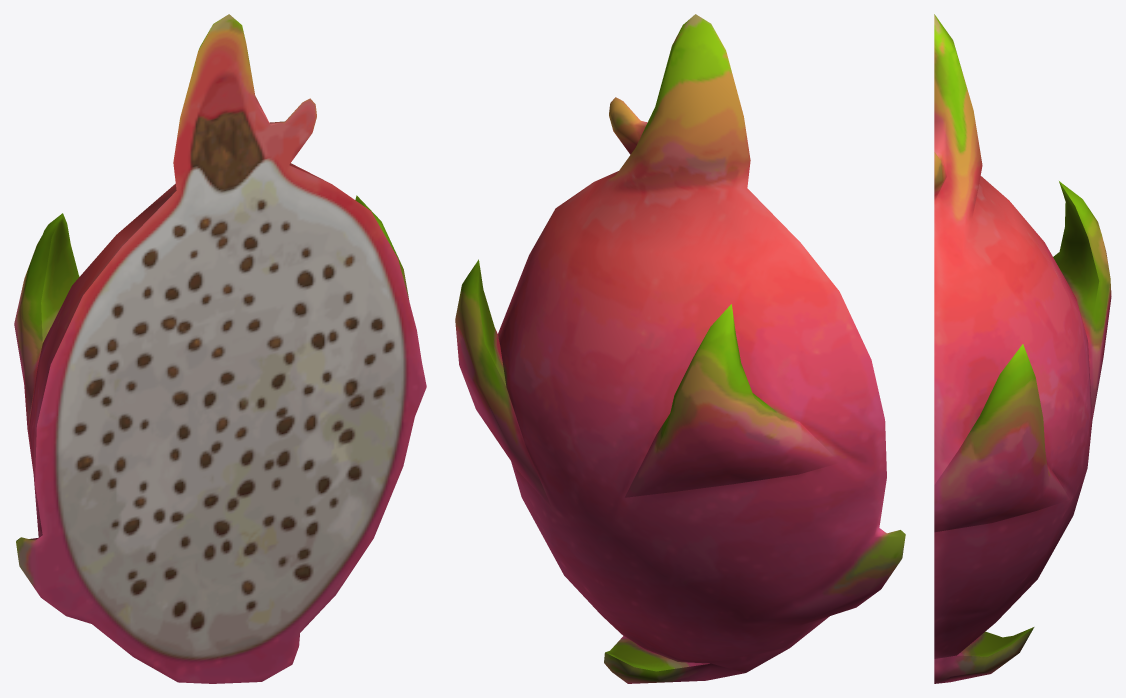
Rendered from SM_PitayaCutB.fbx.
The picture shows the model from 3 angles, left to right: view 1: azimuth 30°, elevation 25°; view 2: azimuth 150°, elevation 25°; view 3: azimuth 270°, elevation 25°; orthographic projection. The views are drawn at different scales.
Visible parts, largest first — view 1: SM_PitayaCutB; view 2: SM_PitayaCutB; view 3: SM_PitayaCutB.
Boxes of the visible parts, x1=… form: SM_PitayaCutB: x1=14, y1=14, x2=426, y2=683; SM_PitayaCutB: x1=455, y1=14, x2=905, y2=683; SM_PitayaCutB: x1=934, y1=14, x2=1111, y2=683.
Size of the model in its own units: 13.38 by 20.85 by 5.14.
